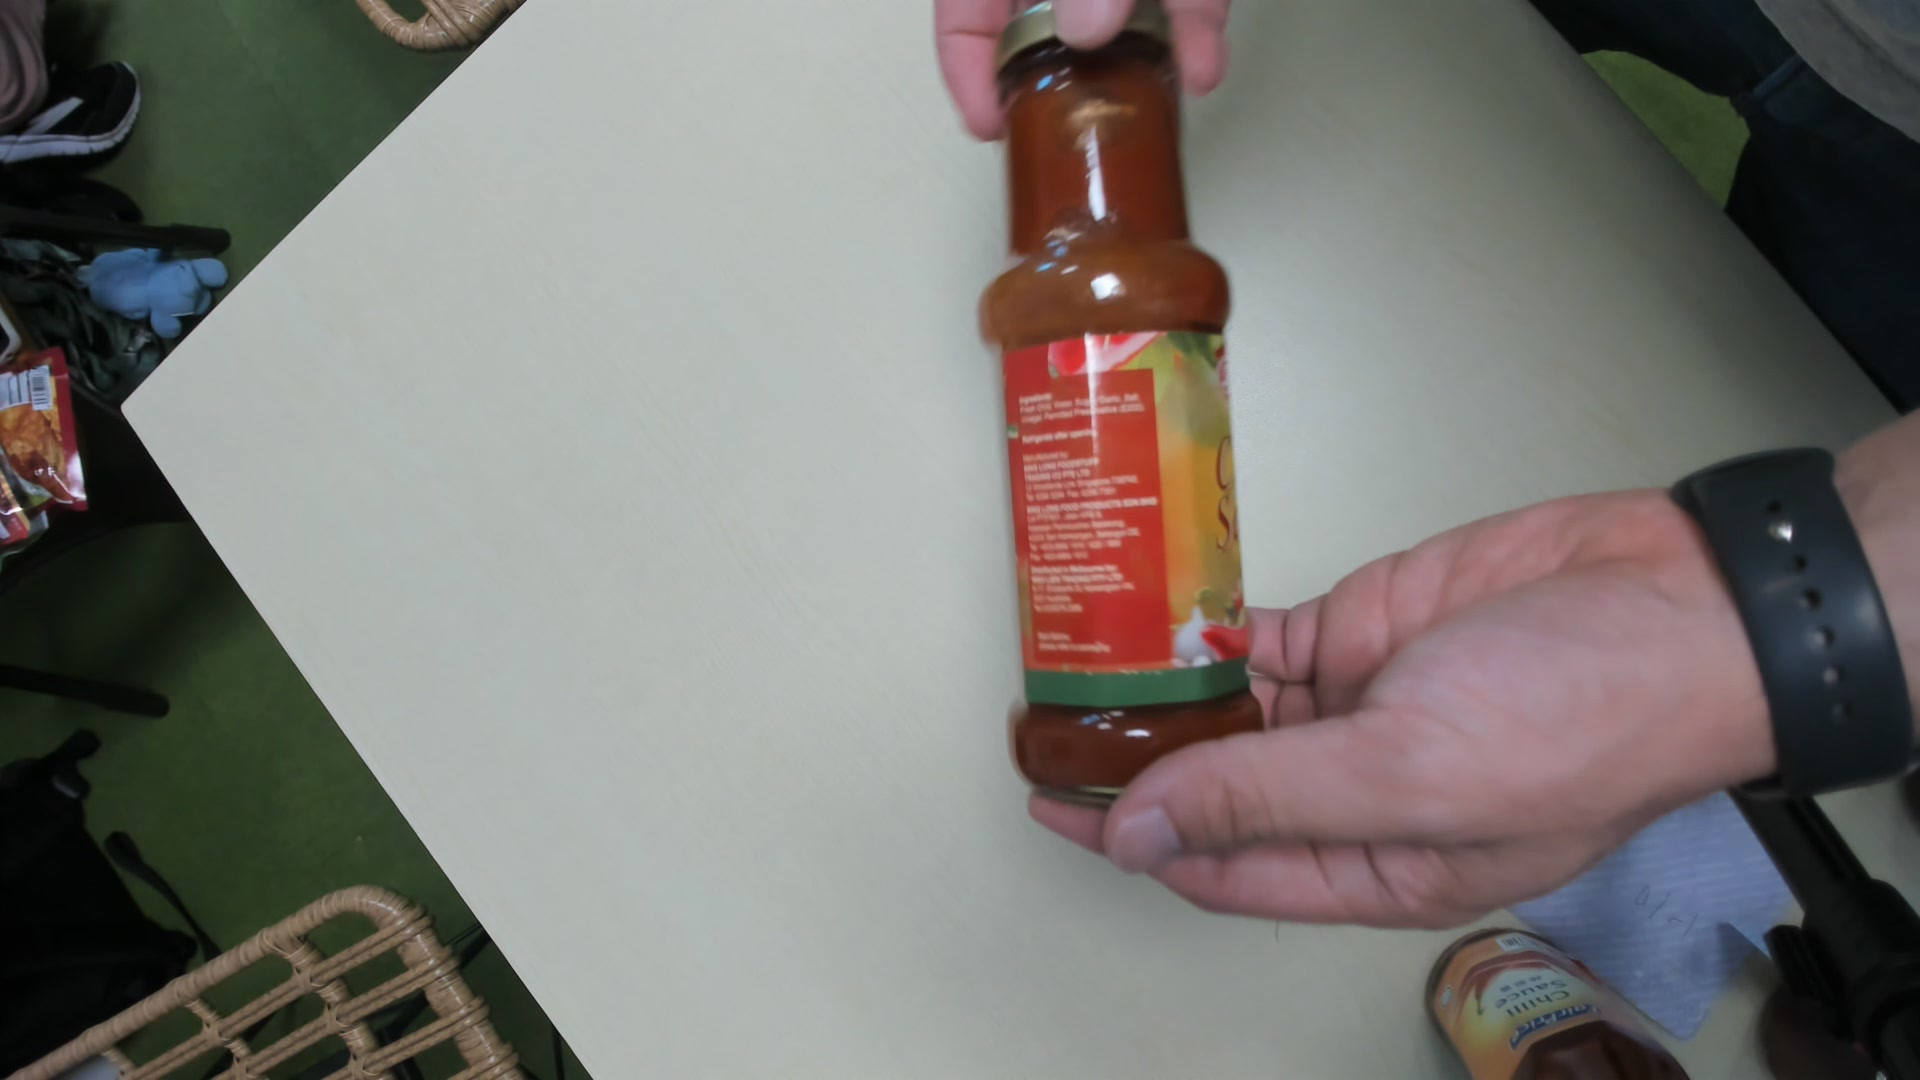KetchupChillSauce_200-299g_Halal_NonHealthy: (986, 1, 1274, 818)
